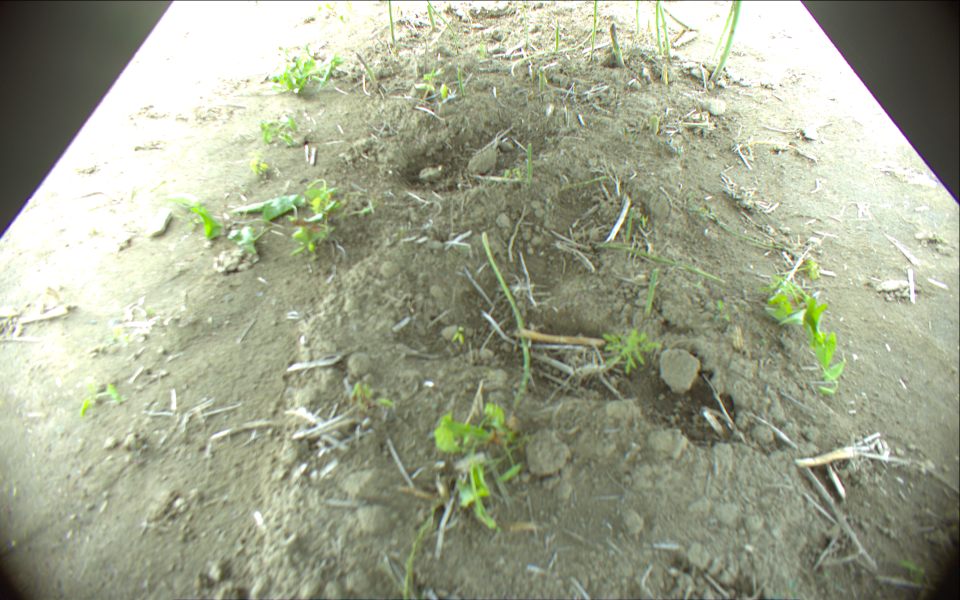aspa: (480, 230, 532, 420), (586, 241, 724, 285), (508, 15, 604, 65), (708, 1, 740, 82), (711, 1, 735, 59), (429, 1, 457, 37), (354, 51, 380, 89), (659, 2, 676, 57), (608, 22, 625, 67), (644, 268, 660, 315), (589, 1, 599, 60), (623, 203, 635, 246), (654, 1, 663, 56), (389, 1, 398, 48), (453, 65, 466, 96), (525, 141, 533, 185), (426, 3, 437, 30), (554, 19, 562, 53), (538, 68, 546, 91), (658, 64, 668, 82), (636, 1, 641, 32)
